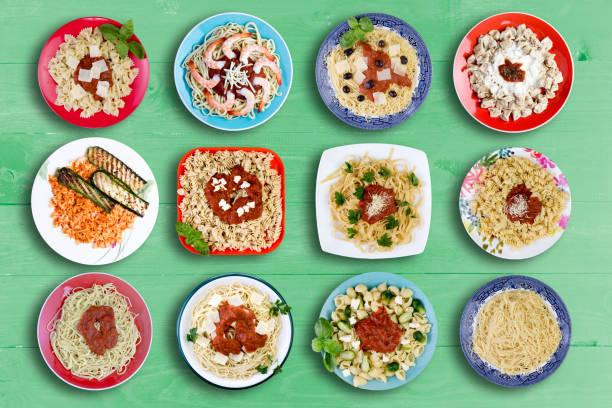Braised Crucian Carp: (30, 137, 157, 264), (453, 11, 572, 134), (314, 272, 436, 390), (173, 11, 291, 130), (36, 272, 151, 390), (315, 13, 431, 129), (176, 274, 292, 389), (316, 144, 431, 259), (458, 275, 572, 388), (459, 146, 571, 259), (36, 16, 146, 127), (176, 147, 283, 255)
